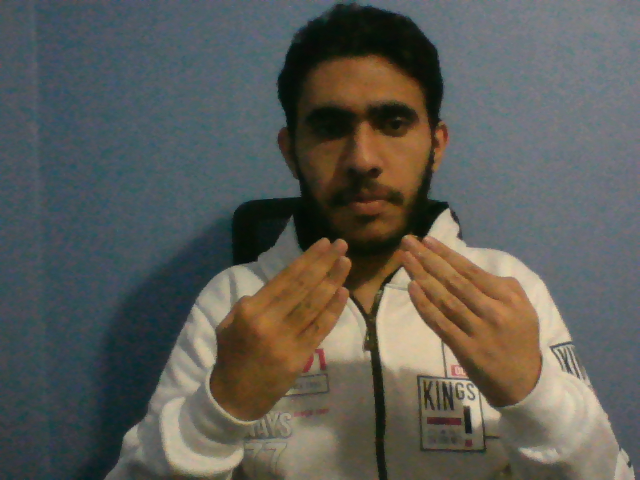thanks: (208, 229, 551, 425)
